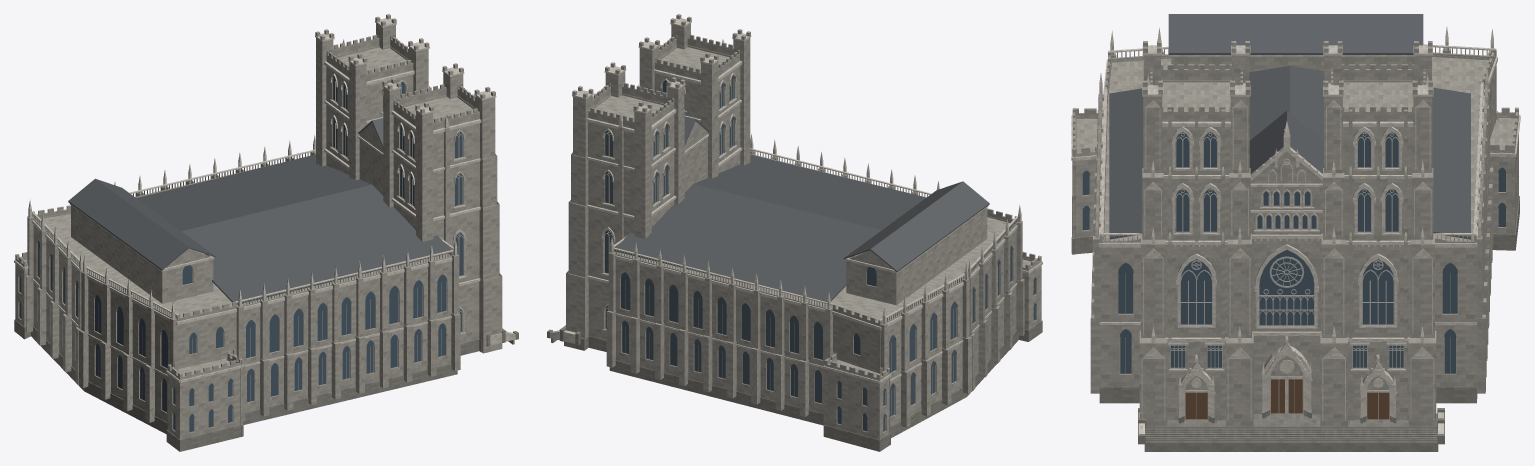
3 views of the same model, side by side, from view 1: azimuth 30°, elevation 25°; view 2: azimuth 150°, elevation 25°; view 3: azimuth 270°, elevation 25° (orthographic). The views are drawn at different scales.
Visible parts, largest first — view 1: peaceHall__ashlar, peaceHall__roof, peaceHall__glassStained, peaceHall__trim, peaceHall__base, peaceHall__frame; view 2: peaceHall__ashlar, peaceHall__roof, peaceHall__glassStained, peaceHall__trim, peaceHall__base, peaceHall__frame; view 3: peaceHall__ashlar, peaceHall__trim, peaceHall__roof, peaceHall__glassStained, peaceHall__base, peaceHall__frame, peaceHall__door.
Part boxes in pixels (left/top/right/bottom): peaceHall__ashlar: left=15, top=14, right=502, bottom=439; peaceHall__roof: left=68, top=118, right=451, bottom=304; peaceHall__glassStained: left=19, top=76, right=462, bottom=432; peaceHall__trim: left=14, top=18, right=515, bottom=382; peaceHall__base: left=14, top=319, right=518, bottom=451; peaceHall__frame: left=19, top=80, right=463, bottom=432; peaceHall__ashlar: left=566, top=14, right=1041, bottom=439; peaceHall__roof: left=614, top=116, right=989, bottom=301; peaceHall__glassStained: left=605, top=75, right=1035, bottom=431; peaceHall__trim: left=550, top=18, right=1042, bottom=383; peaceHall__base: left=547, top=320, right=1042, bottom=451; peaceHall__frame: left=604, top=79, right=1035, bottom=431; peaceHall__ashlar: left=1072, top=41, right=1518, bottom=426; peaceHall__trim: left=1071, top=26, right=1520, bottom=433; peaceHall__roof: left=1109, top=14, right=1470, bottom=239; peaceHall__glassStained: left=1082, top=132, right=1506, bottom=373; peaceHall__base: left=1071, top=196, right=1519, bottom=451; peaceHall__frame: left=1082, top=133, right=1506, bottom=419; peaceHall__door: left=1185, top=379, right=1389, bottom=419.
Size of the model in its own units: 85.87 by 55.75 by 65.
Materials: 7 (3 with a texture image).
